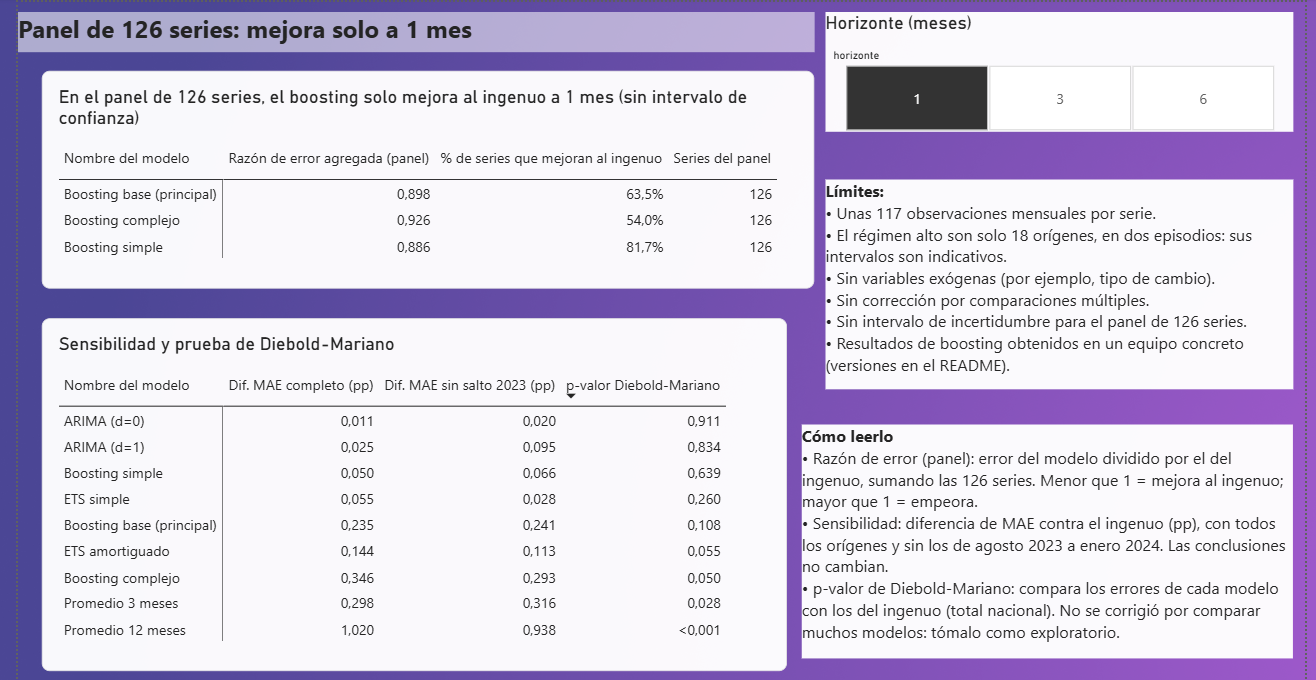

This screenshot's page, from the dashboard's own definition file:
{"tool":"powerbi","page":{"name":"Panel y límites","canvas":[1280,720],"ordinal":3},"visuals":[{"type":"textbox","box":[0,10,792.4,39.8],"z":0},{"type":"slicer","title":"Horizonte (meses)","fields":{"Values":["dim_horizonte.horizonte"]},"box":[803.6,10,465.2,119.4],"z":1000},{"type":"pivotTable","title":"En el panel de 126 series, el boosting solo mejora al ingenuo a 1 mes (sin intervalo de confianza)","fields":{"Rows":["inflacion modelos.Nombre del modelo"],"Values":["Medidas.Razón de error agregada (panel)","Medidas.% de series que mejoran al ingenuo","Medidas.Series del panel"]},"box":[23.6,68.4,768.8,216.4],"z":2000},{"type":"pivotTable","title":"Sensibilidad y prueba de Diebold-Mariano","fields":{"Rows":["inflacion modelos.Nombre del modelo"],"Values":["Medidas.Dif. MAE completo (pp)","Medidas.Dif. MAE sin salto 2023 (pp)","Medidas.p-valor Diebold-Mariano (texto)"]},"box":[23.8,315,741.2,351.2],"z":3000},{"type":"textbox","box":[803.6,176.6,465.2,209],"z":4000},{"type":"textbox","box":[780,420,488.8,232.5],"z":5000}]}

Visuals, with their boxes on the page's 1280x720 design canvas (x1, y1, x2, y2). These are canvas units, not pixel positions in the 1316x680 screenshot, which may show the page scaled, cropped or inside an application window:
textbox: [left=0, top=10, right=792, bottom=50]
"Horizonte (meses)" slicer: [left=804, top=10, right=1269, bottom=129]
"En el panel de 126 series, el boosting solo mejora al ingenuo a 1 mes (sin intervalo de confianza)" pivotTable: [left=24, top=68, right=792, bottom=285]
"Sensibilidad y prueba de Diebold-Mariano" pivotTable: [left=24, top=315, right=765, bottom=666]
textbox: [left=804, top=177, right=1269, bottom=386]
textbox: [left=780, top=420, right=1269, bottom=652]
